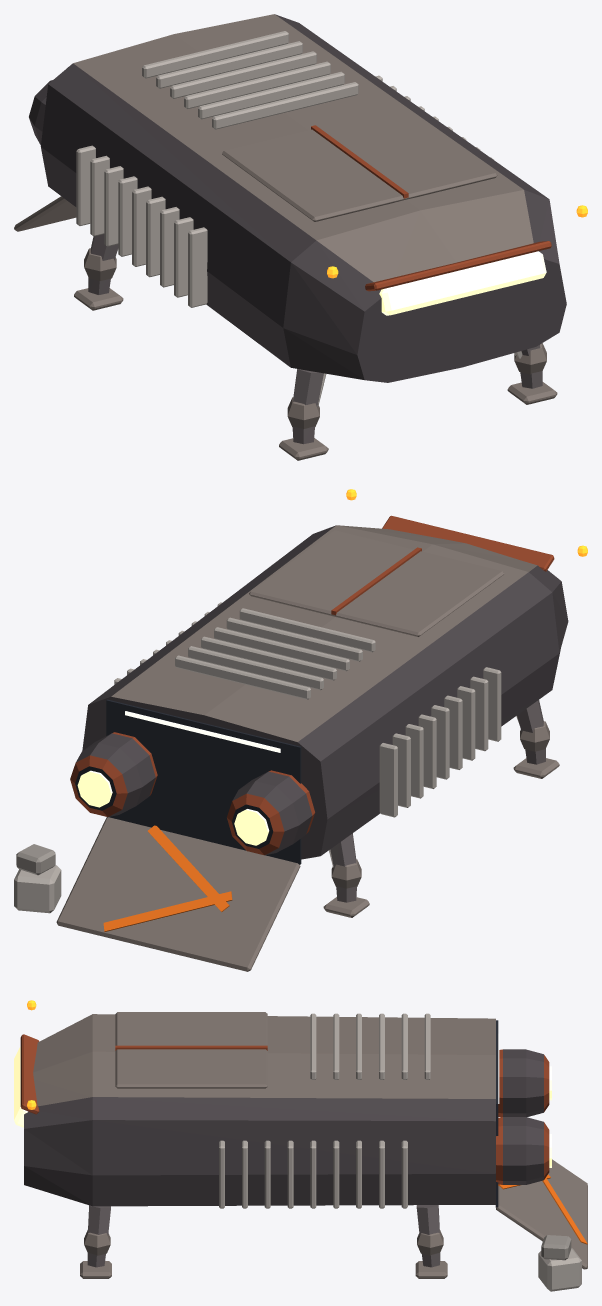
File: emb-f_offen.glb
3 renders of one model, top to bottom at view 1: azimuth 30°, elevation 25°; view 2: azimuth 150°, elevation 25°; view 3: azimuth 270°, elevation 25°, orthographic. The views are drawn at different scales.
Parts seen in each view (by area): view 1: rumpf, kühlflächen, frachtklappe, cockpit, landebein_2, landebein_4, landebein_1, rampe, triebwerk_r; view 2: rumpf, rampe, kühlflächen, frachtklappe, laderaum, triebwerk_r, triebwerk_l, ladung, landebein_4, cockpit, landebein_2; view 3: rumpf, frachtklappe, kühlflächen, rampe, triebwerk_l, triebwerk_r, ladung, landebein_3, landebein_1, cockpit, laderaum.
Boxes of the visible parts, x1,y1,x2,y2 form: rumpf: (40,14,566,382); kühlflächen: (76,31,493,307); frachtklappe: (222,107,497,221); cockpit: (365,241,551,315); landebein_2: (279,369,328,460); landebein_4: (74,234,123,310); landebein_1: (507,343,557,404); rampe: (14,196,76,231); triebwerk_r: (29,80,52,145); rumpf: (82,525,568,859); rampe: (56,817,300,971); kühlflächen: (114,602,501,817); frachtklappe: (249,530,504,636); laderaum: (106,699,301,864); triebwerk_r: (227,770,315,855); triebwerk_l: (70,732,157,816); ladung: (14,844,61,913); landebein_4: (323,833,369,917); cockpit: (382,515,554,571); landebein_2: (513,700,559,778); rumpf: (24,1014,495,1206); frachtklappe: (115,1012,267,1088); kühlflächen: (219,1013,430,1208); rampe: (495,1159,587,1269); triebwerk_l: (496,1117,551,1184); triebwerk_r: (498,1049,551,1117); ladung: (538,1235,581,1291); landebein_3: (415,1205,447,1278); landebein_1: (80,1205,111,1278); cockpit: (14,1034,39,1127); laderaum: (496,1020,499,1207).
Bounding box in the file's own units: 0.0982 × 0.0678 × 0.1885.
